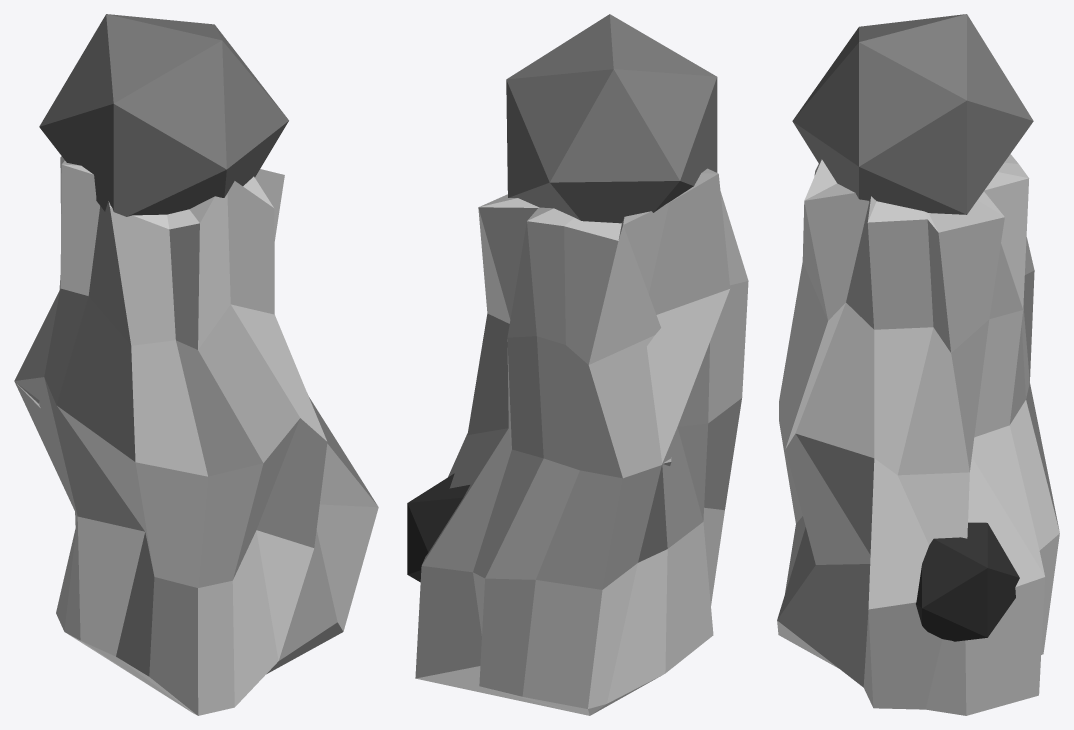
Rendered from Char_GL_Hand_L_Under.FBX.
3 views of the same model, side by side, from view 1: azimuth 30°, elevation 25°; view 2: azimuth 150°, elevation 25°; view 3: azimuth 270°, elevation 25° (orthographic). The views are drawn at different scales.
Parts seen in each view (by area): view 1: GeoSphere004; view 2: GeoSphere004; view 3: GeoSphere004.
Boxes of the visible parts, bbox=[...] form: GeoSphere004: bbox=[14, 14, 378, 715]; GeoSphere004: bbox=[407, 14, 748, 715]; GeoSphere004: bbox=[777, 14, 1059, 715].
Bounding box in the file's own units: 14.25 × 31.01 × 11.95.
